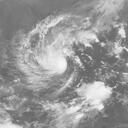cyclone: (13, 15, 79, 88)
